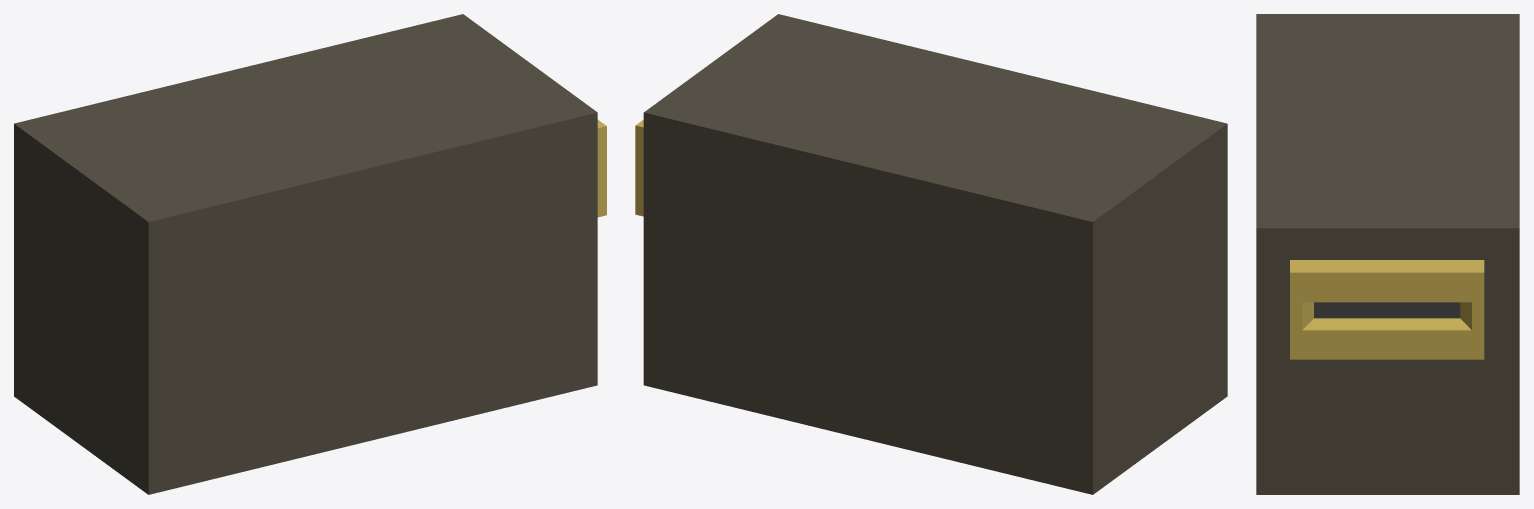
Rendered from ACT3_InputArea.fbx.
3 views of the same model, side by side, from view 1: azimuth 30°, elevation 25°; view 2: azimuth 150°, elevation 25°; view 3: azimuth 270°, elevation 25° (orthographic). The views are drawn at different scales.
Visible parts, largest first — view 1: InputArea_Base, InputArea_Gleuf; view 2: InputArea_Base, InputArea_Gleuf; view 3: InputArea_Base, InputArea_Gleuf.
Part boxes in pixels (left/top/right/bottom): InputArea_Base: left=14, top=14, right=597, bottom=494; InputArea_Gleuf: left=597, top=119, right=606, bottom=217; InputArea_Base: left=643, top=14, right=1227, bottom=494; InputArea_Gleuf: left=635, top=120, right=643, bottom=216; InputArea_Base: left=1256, top=14, right=1519, bottom=494; InputArea_Gleuf: left=1290, top=260, right=1484, bottom=359.
Bounding box in the file's own units: 2.11 × 1.16 × 1.04.
